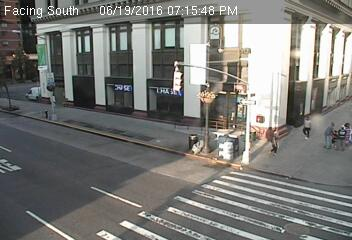neg: (92, 82, 124, 124), (182, 71, 213, 113), (239, 66, 263, 98), (48, 92, 70, 121), (141, 78, 159, 102)
pos: (312, 118, 335, 149), (264, 125, 287, 156), (295, 112, 316, 139)
